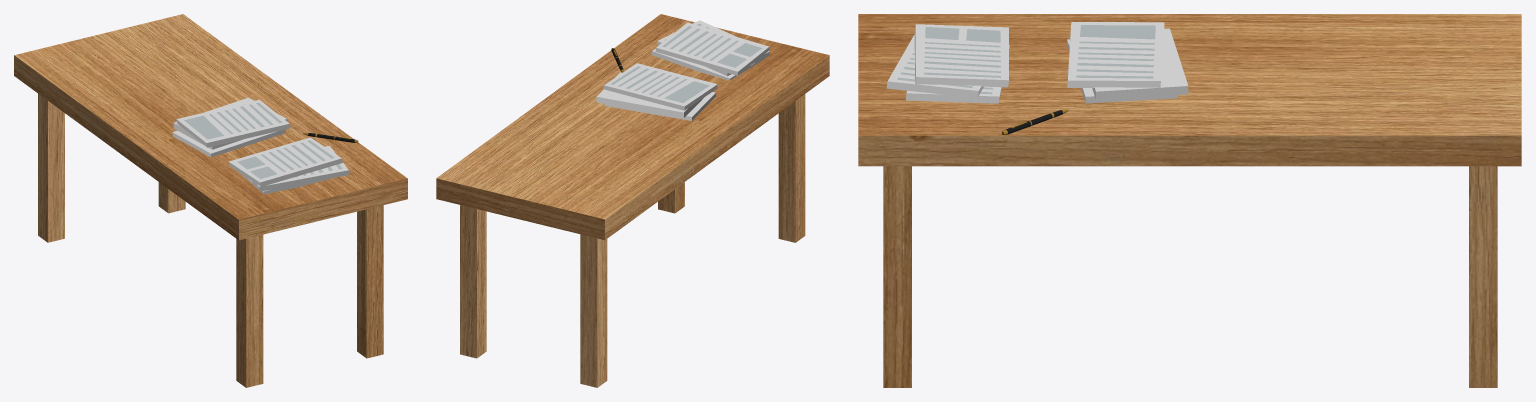
Rendered from papers on a desk.fbx.
The picture shows the model from 3 angles, left to right: view 1: azimuth 30°, elevation 25°; view 2: azimuth 150°, elevation 25°; view 3: azimuth 270°, elevation 25°; orthographic projection. The views are drawn at different scales.
Visible parts, largest first — view 1: model1:papers_on_a_desk1; view 2: model1:papers_on_a_desk1; view 3: model1:papers_on_a_desk1.
Boxes of the visible parts, x1=… form: model1:papers_on_a_desk1: x1=14, y1=14, x2=407, y2=387; model1:papers_on_a_desk1: x1=436, y1=14, x2=829, y2=387; model1:papers_on_a_desk1: x1=858, y1=14, x2=1521, y2=387.
Size of the model in its own units: 233 by 257 by 536.
Materials: 6 (1 with a texture image).
